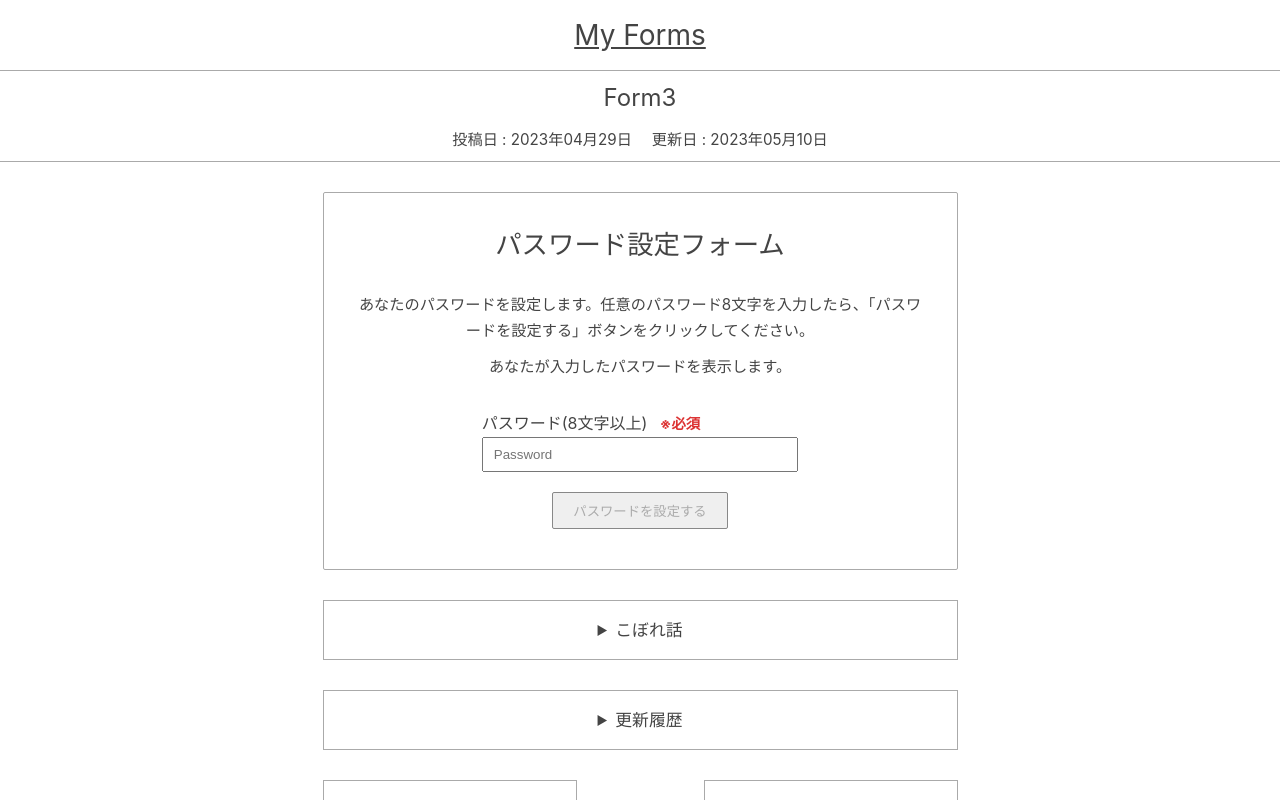
Test: Form3 › フォームにパスワードを入力した時、各要素が正しい状態になること › パスワードを入力した時、ボタンのdisabledが解除されること
Type "Hello World" into the password field with placeholder "Password" at (640,454), box [482,436,798,472]
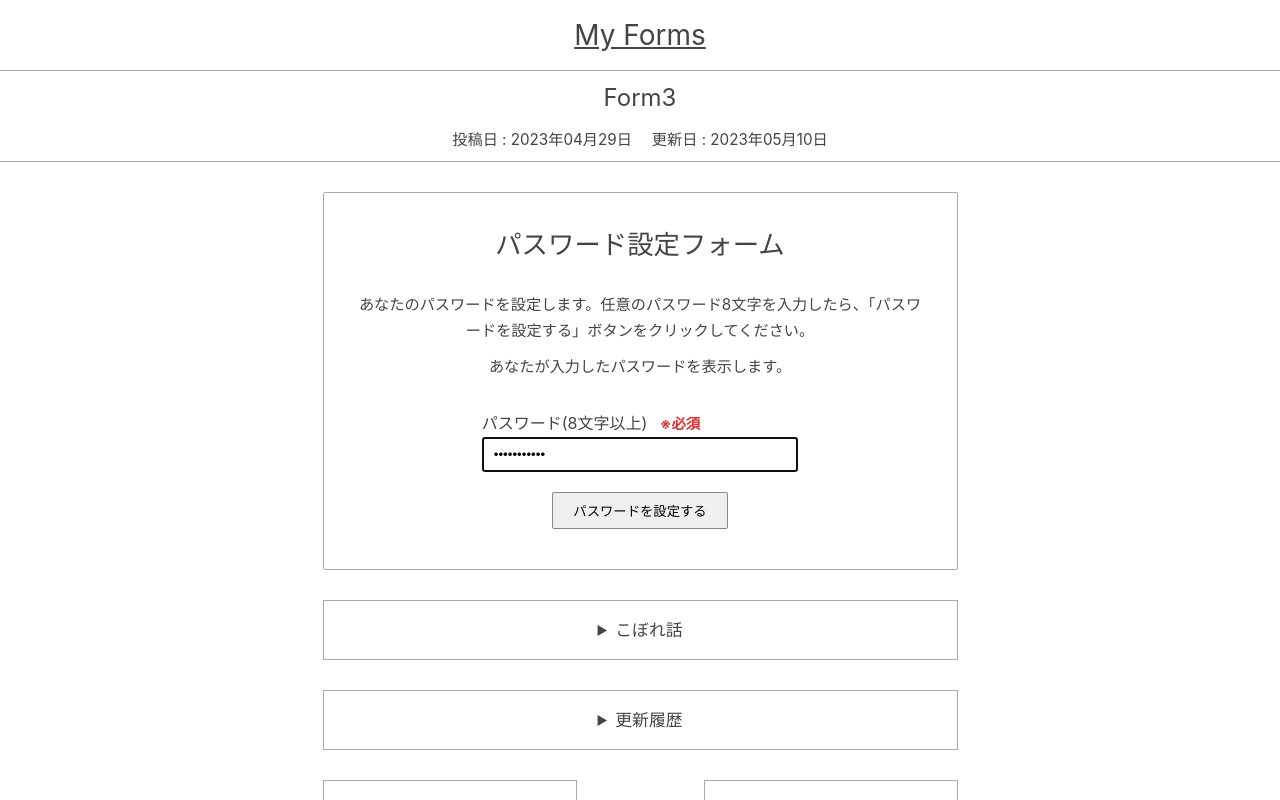
Result: the button "パスワードを設定する" is enabled at [552,492,728,528]
